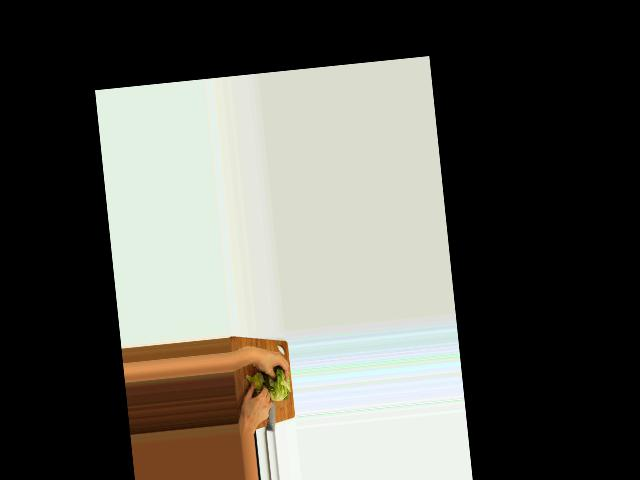lettuce: (264, 367, 290, 402)
